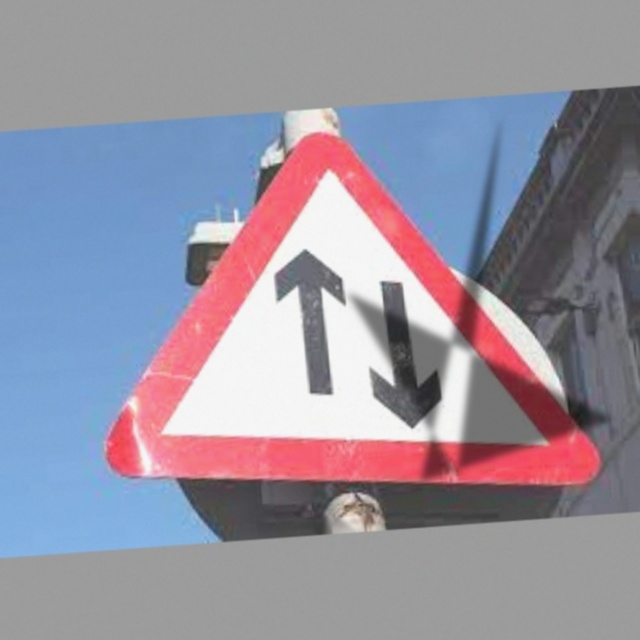Mandatory_Two_Way_Traffic: (115, 122, 590, 506)
